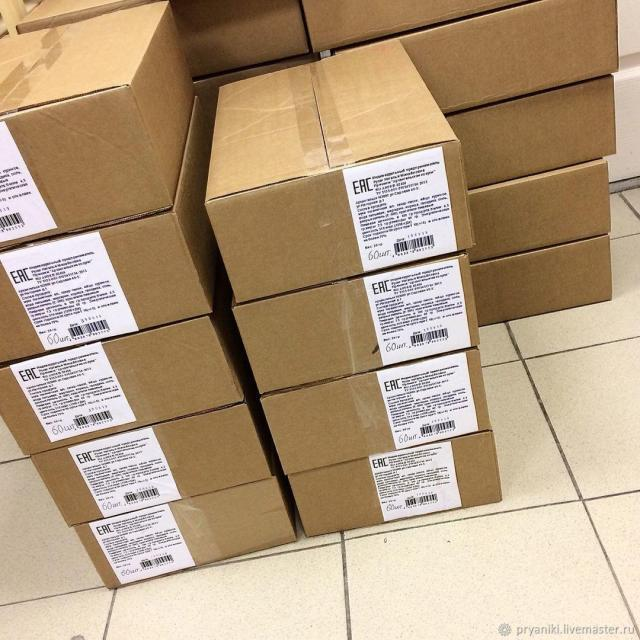box: (204, 40, 473, 304), (0, 105, 217, 370), (0, 2, 200, 255), (0, 318, 249, 457), (233, 254, 482, 392), (254, 346, 493, 478), (31, 402, 274, 525), (399, 0, 624, 121), (76, 474, 296, 589), (438, 70, 622, 197), (287, 430, 500, 538), (464, 156, 618, 270), (473, 240, 616, 330)
